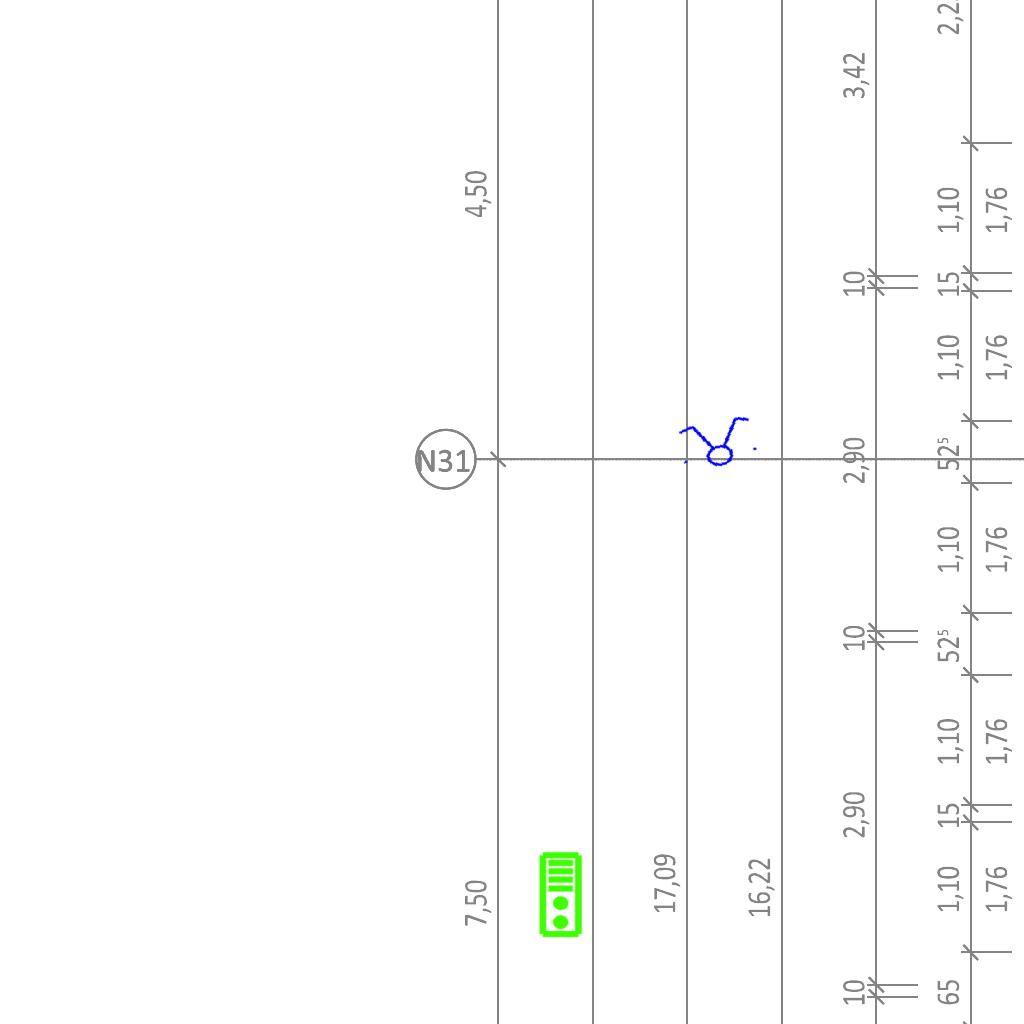Gegensprechanlage_mit_Video: (538, 851, 585, 939)
Serienschalter: (671, 411, 763, 475)
